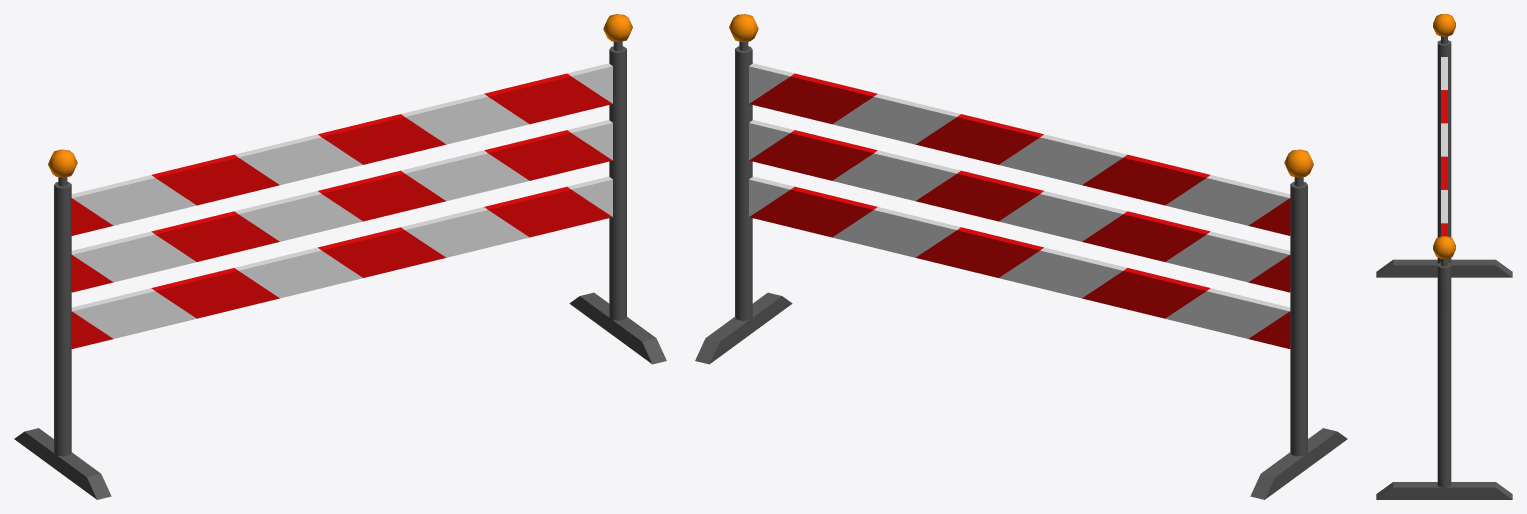
File: ETC0510018.fbx
The picture shows the model from 3 angles, left to right: view 1: azimuth 30°, elevation 25°; view 2: azimuth 150°, elevation 25°; view 3: azimuth 270°, elevation 25°; orthographic projection. The views are drawn at different scales.
Visible parts, largest first — view 1: smETC0510018; view 2: smETC0510018; view 3: smETC0510018.
Part boxes in pixels (x1,y1,x2,y2): smETC0510018: (14, 14, 666, 499); smETC0510018: (695, 14, 1347, 499); smETC0510018: (1376, 14, 1512, 499).
Size of the model in its own units: 386 by 202 by 96.
1 material, 1 textured.
